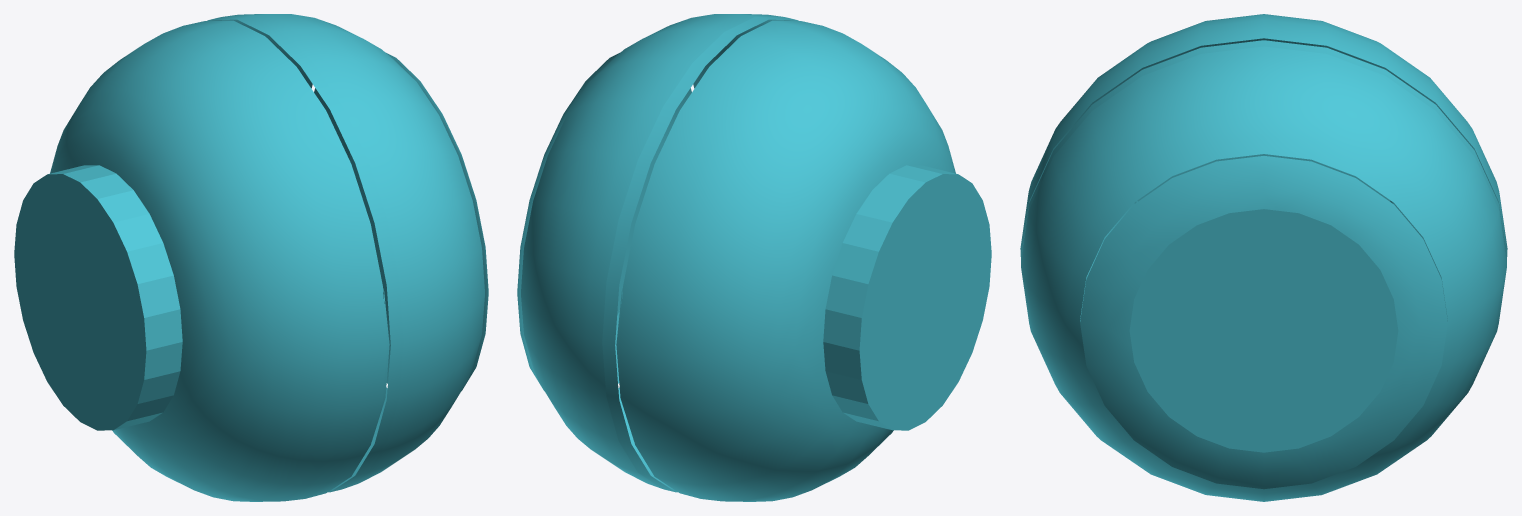
3 views of the same model, side by side, from view 1: azimuth 30°, elevation 25°; view 2: azimuth 150°, elevation 25°; view 3: azimuth 270°, elevation 25° (orthographic).
Parts seen in each view (by area): view 1: Renderer Node; view 2: Renderer Node; view 3: Renderer Node.
Boxes of the visible parts, x1,y1,x2,y2 form: Renderer Node: (14, 14, 488, 501); Renderer Node: (517, 14, 991, 501); Renderer Node: (1020, 14, 1507, 501).
Bounding box in the file's own units: 0.4865 × 0.6178 × 0.6178.
Materials: 1 (1 with a texture image).
